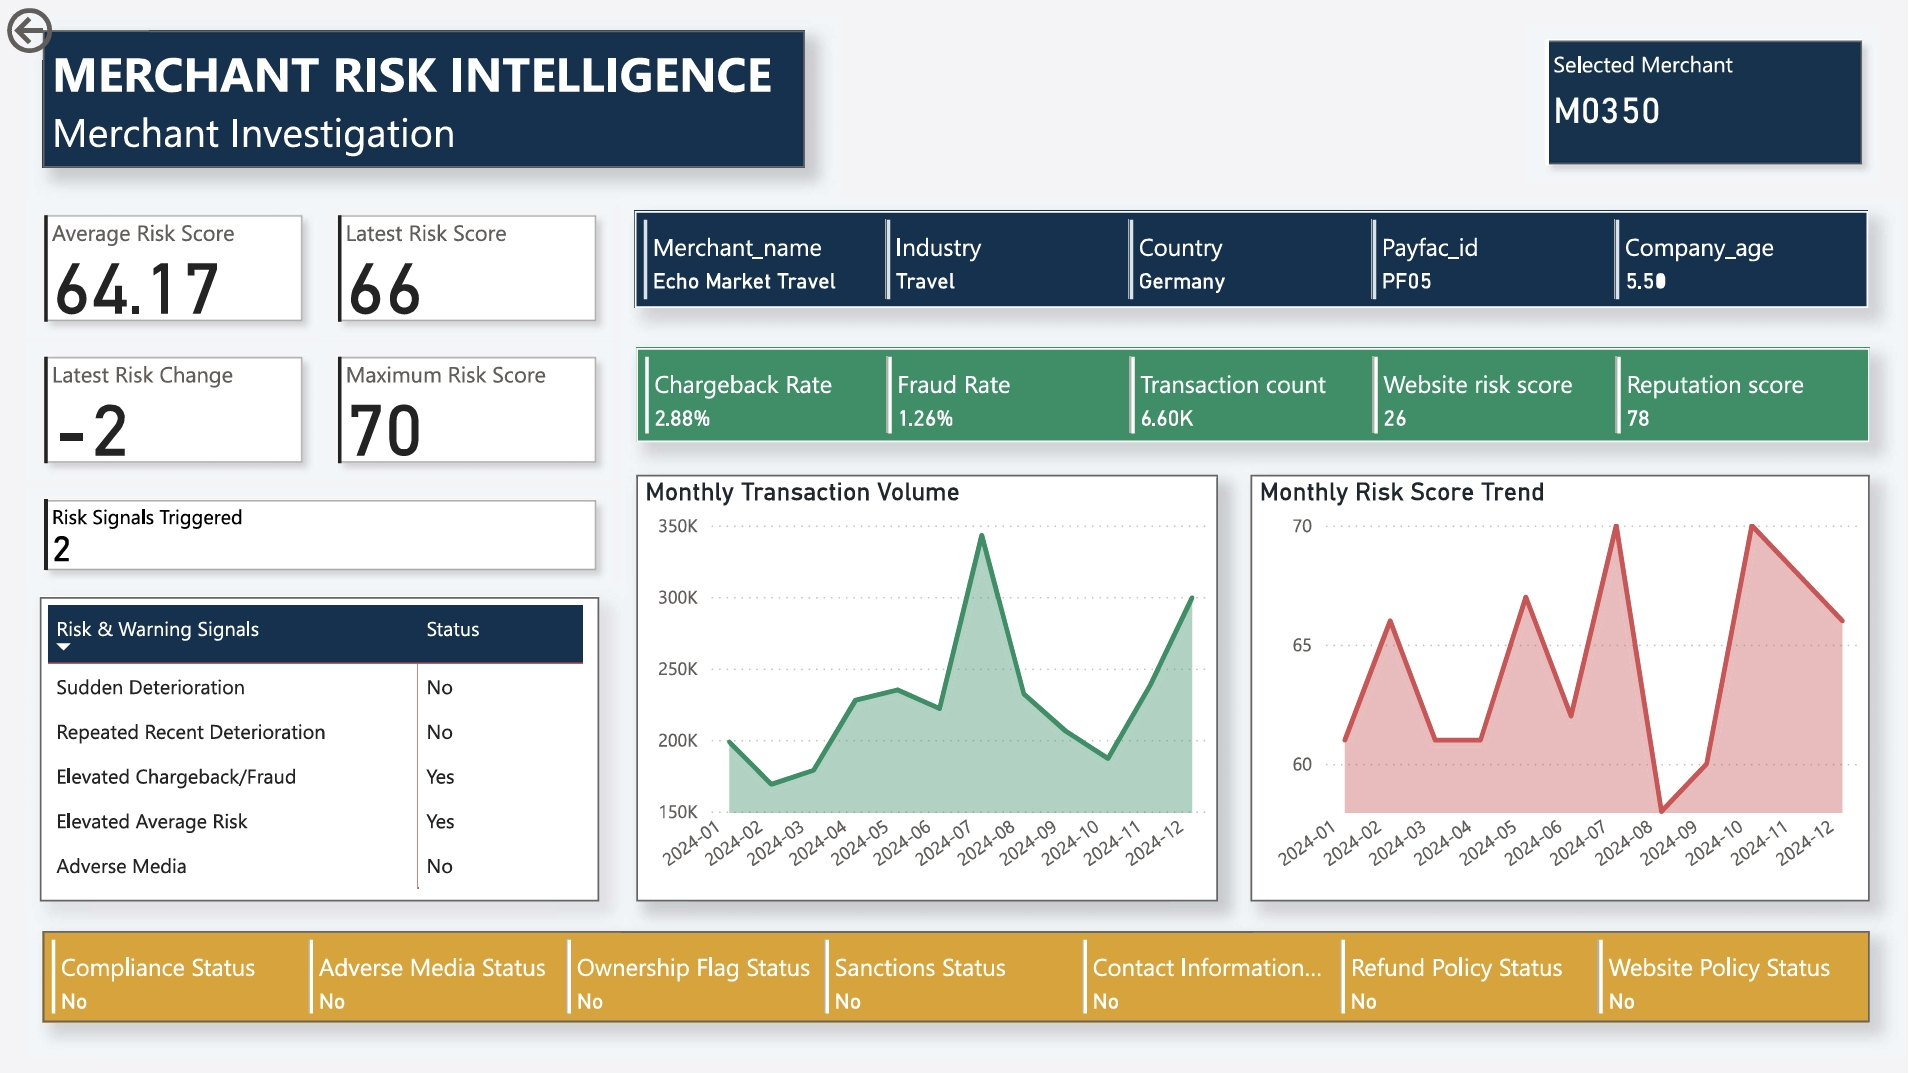

What the dashboard file says about the page in this screenshot:
{"tool":"powerbi","page":{"name":"Merchant Investigation","canvas":[1280,720],"ordinal":4},"visuals":[{"type":"textbox","box":[29.4,20.9,510.4,92],"z":0},{"type":"cardVisual","fields":{"Data":["merchant_risk_intelligence merchant_risk.Average Risk Score","Sum(Merchant Signal Summary.Latest Risk)","Sum(Merchant Signal Summary.Latest Risk Change)","merchant_risk_intelligence merchant_risk.Max Risk Score"]},"box":[13.5,127.6,403.7,201.2],"z":1000},{"type":"actionButton","box":[0,1.4,100.2,39.8],"z":2000},{"type":"pivotTable","fields":{"Rows":["Risk Signals.Signal"],"Values":["Risk Signals.Risk Signal Status"]},"box":[27,401.2,375.5,203.7],"z":3000},{"type":"cardVisual","fields":{"Data":["Merchant Signal Summary.Selected Merchant"]},"box":[1019.6,11,246.6,116.6],"z":4000},{"type":"cardVisual","title":"Merchant Profile","fields":{"Data":["Min(merchant_risk_intelligence merchants.merchant_name)","Min(merchant_risk_intelligence merchants.industry)","Min(merchant_risk_intelligence merchants.country)","Min(merchant_risk_intelligence merchants.payfac_id)","Sum(merchant_risk_intelligence business_profile.company_age_years)"]},"box":[425.8,142.3,827,65],"z":5000},{"type":"cardVisual","fields":{"Data":["merchant_risk_intelligence business_profile.Compliance Status","Merchant Signal Summary.Adverse Media Status","merchant_risk_intelligence business_profile.Ownership Flag Status","merchant_risk_intelligence business_profile.Sanctions Status","merchant_risk_intelligence website_signals.Contact Information Status","merchant_risk_intelligence website_signals.Refund Policy Status","merchant_risk_intelligence website_signals.Website Policy Status"]},"box":[29.4,624.5,1224.5,61.4],"z":6000},{"type":"areaChart","title":"Monthly Risk Score Trend","fields":{"Category":["merchant_risk_intelligence merchant_risk.month"],"Y":["Sum(merchant_risk_intelligence merchant_risk.risk_score)"]},"box":[839.3,319,414.7,285.9],"z":7000},{"type":"areaChart","title":"Monthly Transaction Volume","fields":{"Category":["merchant_risk_intelligence monthly_transactions.month"],"Y":["Sum(merchant_risk_intelligence monthly_transactions.transaction_volume)"]},"box":[427,319,390.2,285.9],"z":8000},{"type":"cardVisual","title":"Operational Risk Metrics","fields":{"Data":["Merchant Signal Summary.Chargeback Rate","Merchant Signal Summary.Fraud Rate","Sum(merchant_risk_intelligence Annual_monthly_transactions.Annual_Transaction_count)","Sum(merchant_risk_intelligence website_signals.website_risk_score)","Sum(merchant_risk_intelligence website_signals.reputation_score)"]},"box":[427,234.4,827,62.6],"z":9000},{"type":"cardVisual","fields":{"Data":["Risk Signals.Risk Signals Triggered"]},"box":[13.5,319,403.7,81],"z":10000}]}

Visuals, with their boxes in screenshot pixels (x1, y1, x2, y2), scaled from the page's 1280x720 canvas onto the 1910x1073 screenshot:
textbox: <region>44, 31, 805, 168</region>
cardVisual - merchant_risk_intelligence merchant_risk.Average Risk Score x Sum(Merchant Signal Summary.Latest Risk): <region>20, 190, 623, 490</region>
actionButton: <region>0, 2, 150, 61</region>
pivotTable - Risk Signals.Signal x Risk Signals.Risk Signal Status: <region>40, 598, 601, 901</region>
cardVisual - Merchant Signal Summary.Selected Merchant: <region>1521, 16, 1889, 190</region>
"Merchant Profile" cardVisual: <region>635, 212, 1869, 309</region>
cardVisual - merchant_risk_intelligence business_profile.Compliance Status x Merchant Signal Summary.Adverse Media Status: <region>44, 931, 1871, 1022</region>
"Monthly Risk Score Trend" areaChart: <region>1252, 475, 1871, 901</region>
"Monthly Transaction Volume" areaChart: <region>637, 475, 1219, 901</region>
"Operational Risk Metrics" cardVisual: <region>637, 349, 1871, 443</region>
cardVisual - Risk Signals.Risk Signals Triggered: <region>20, 475, 623, 596</region>
